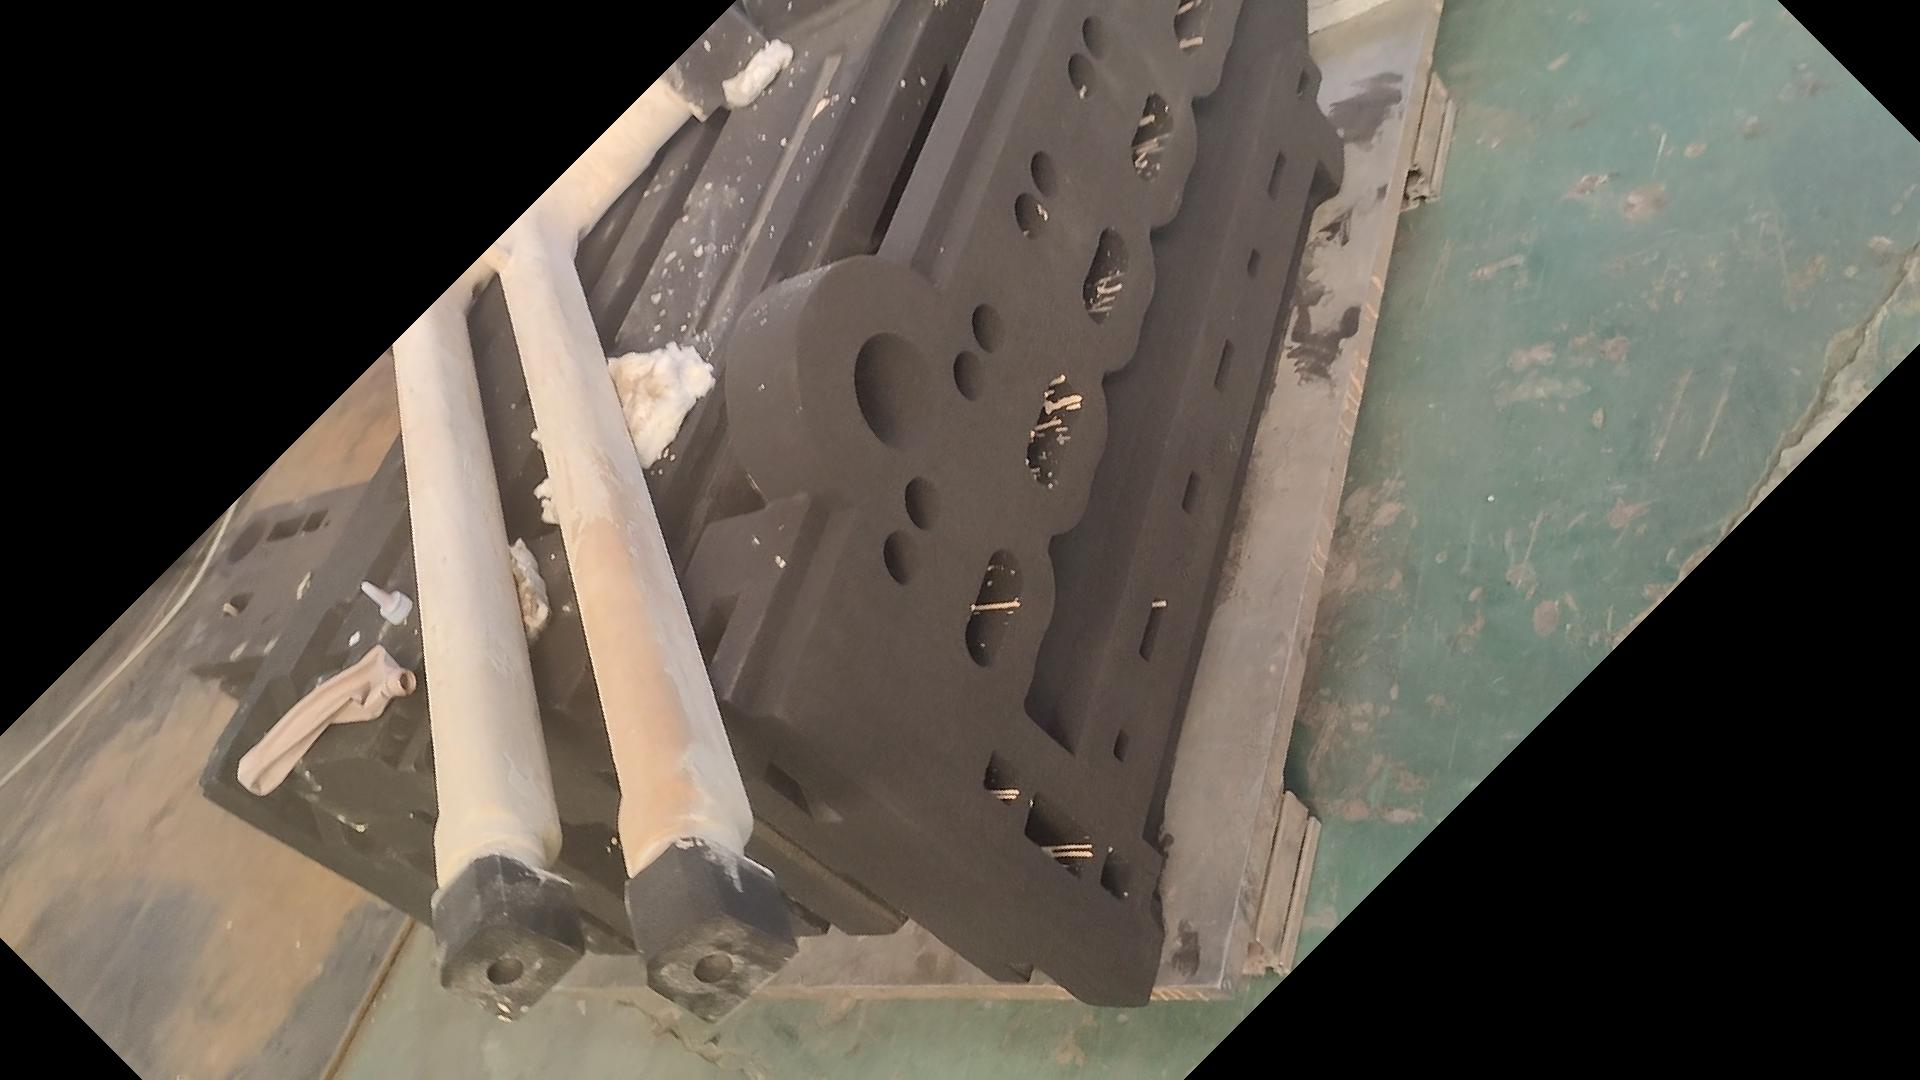pouring hole: (853, 334, 938, 448), (224, 516, 266, 560)
